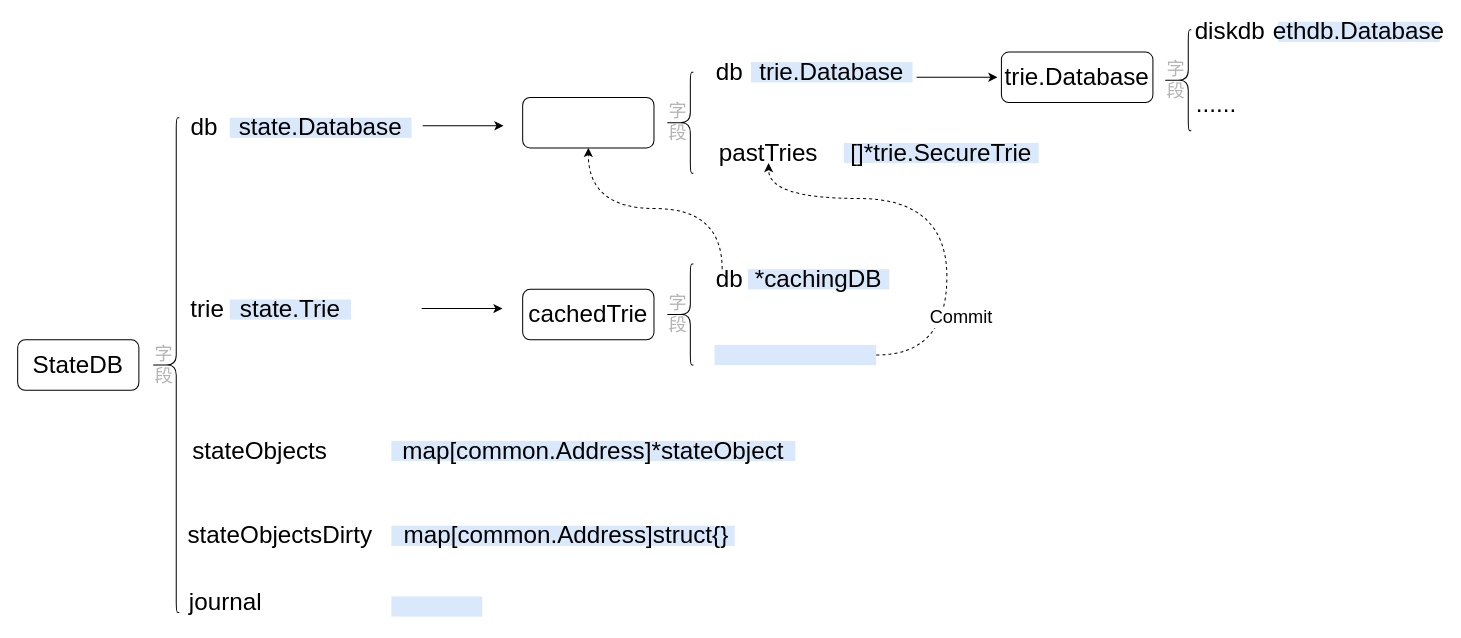
Image size: 1461x638. Some labels were removed from this diagram. Here are the shapes that lost their labels. From the top down, the centre of each, then its label:
the point at 588,122: cachingDB
the point at 795,354: *trie.SecureTrie
the point at 436,606: * journal
